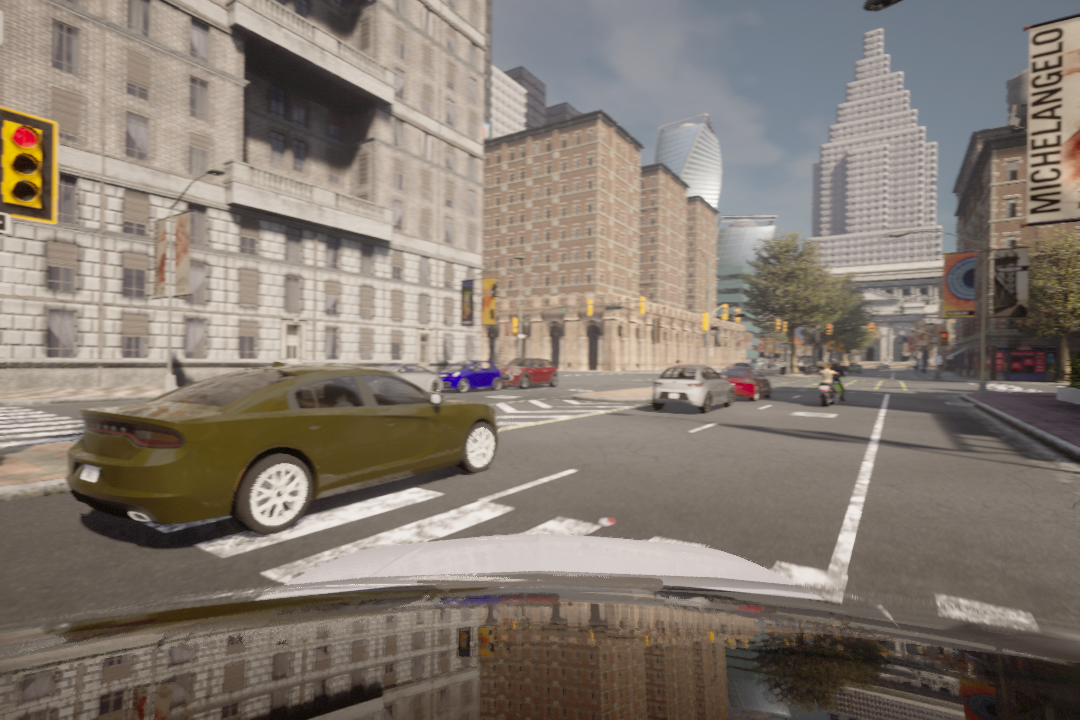walkside: (1, 112, 65, 224)
